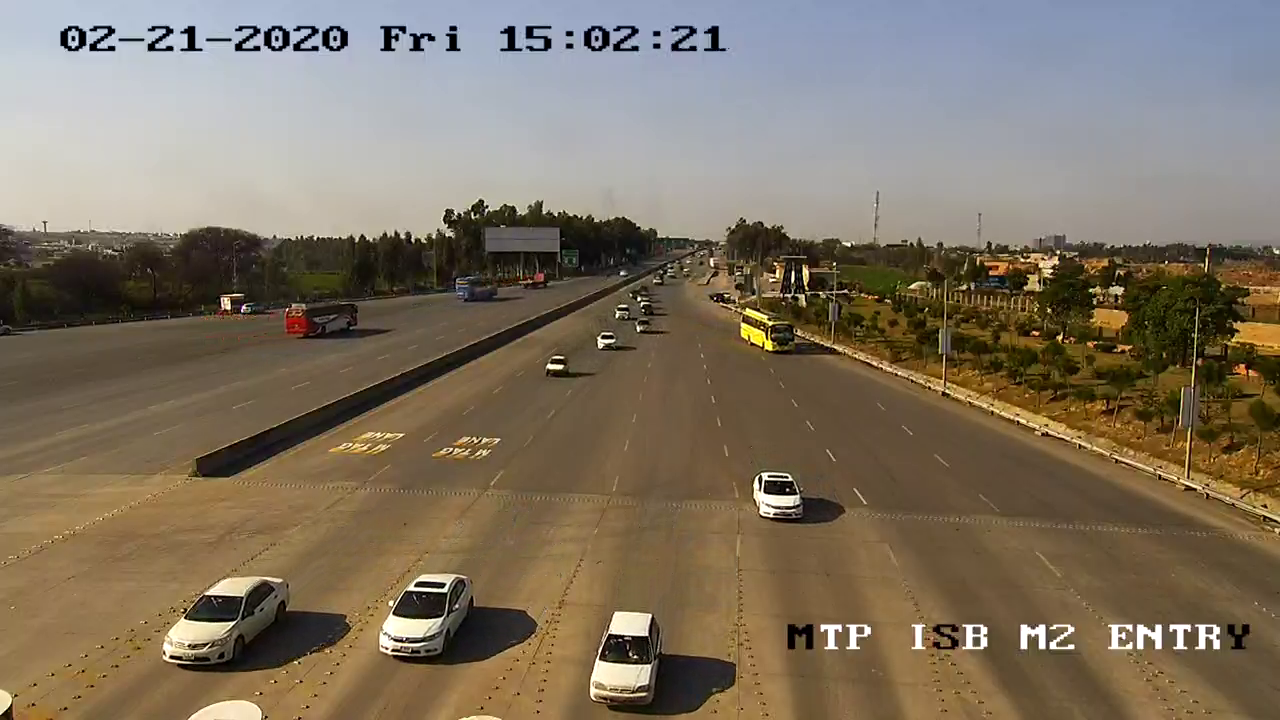f1: (142, 558, 299, 681), (369, 563, 483, 672), (575, 597, 672, 714), (745, 460, 811, 528)
